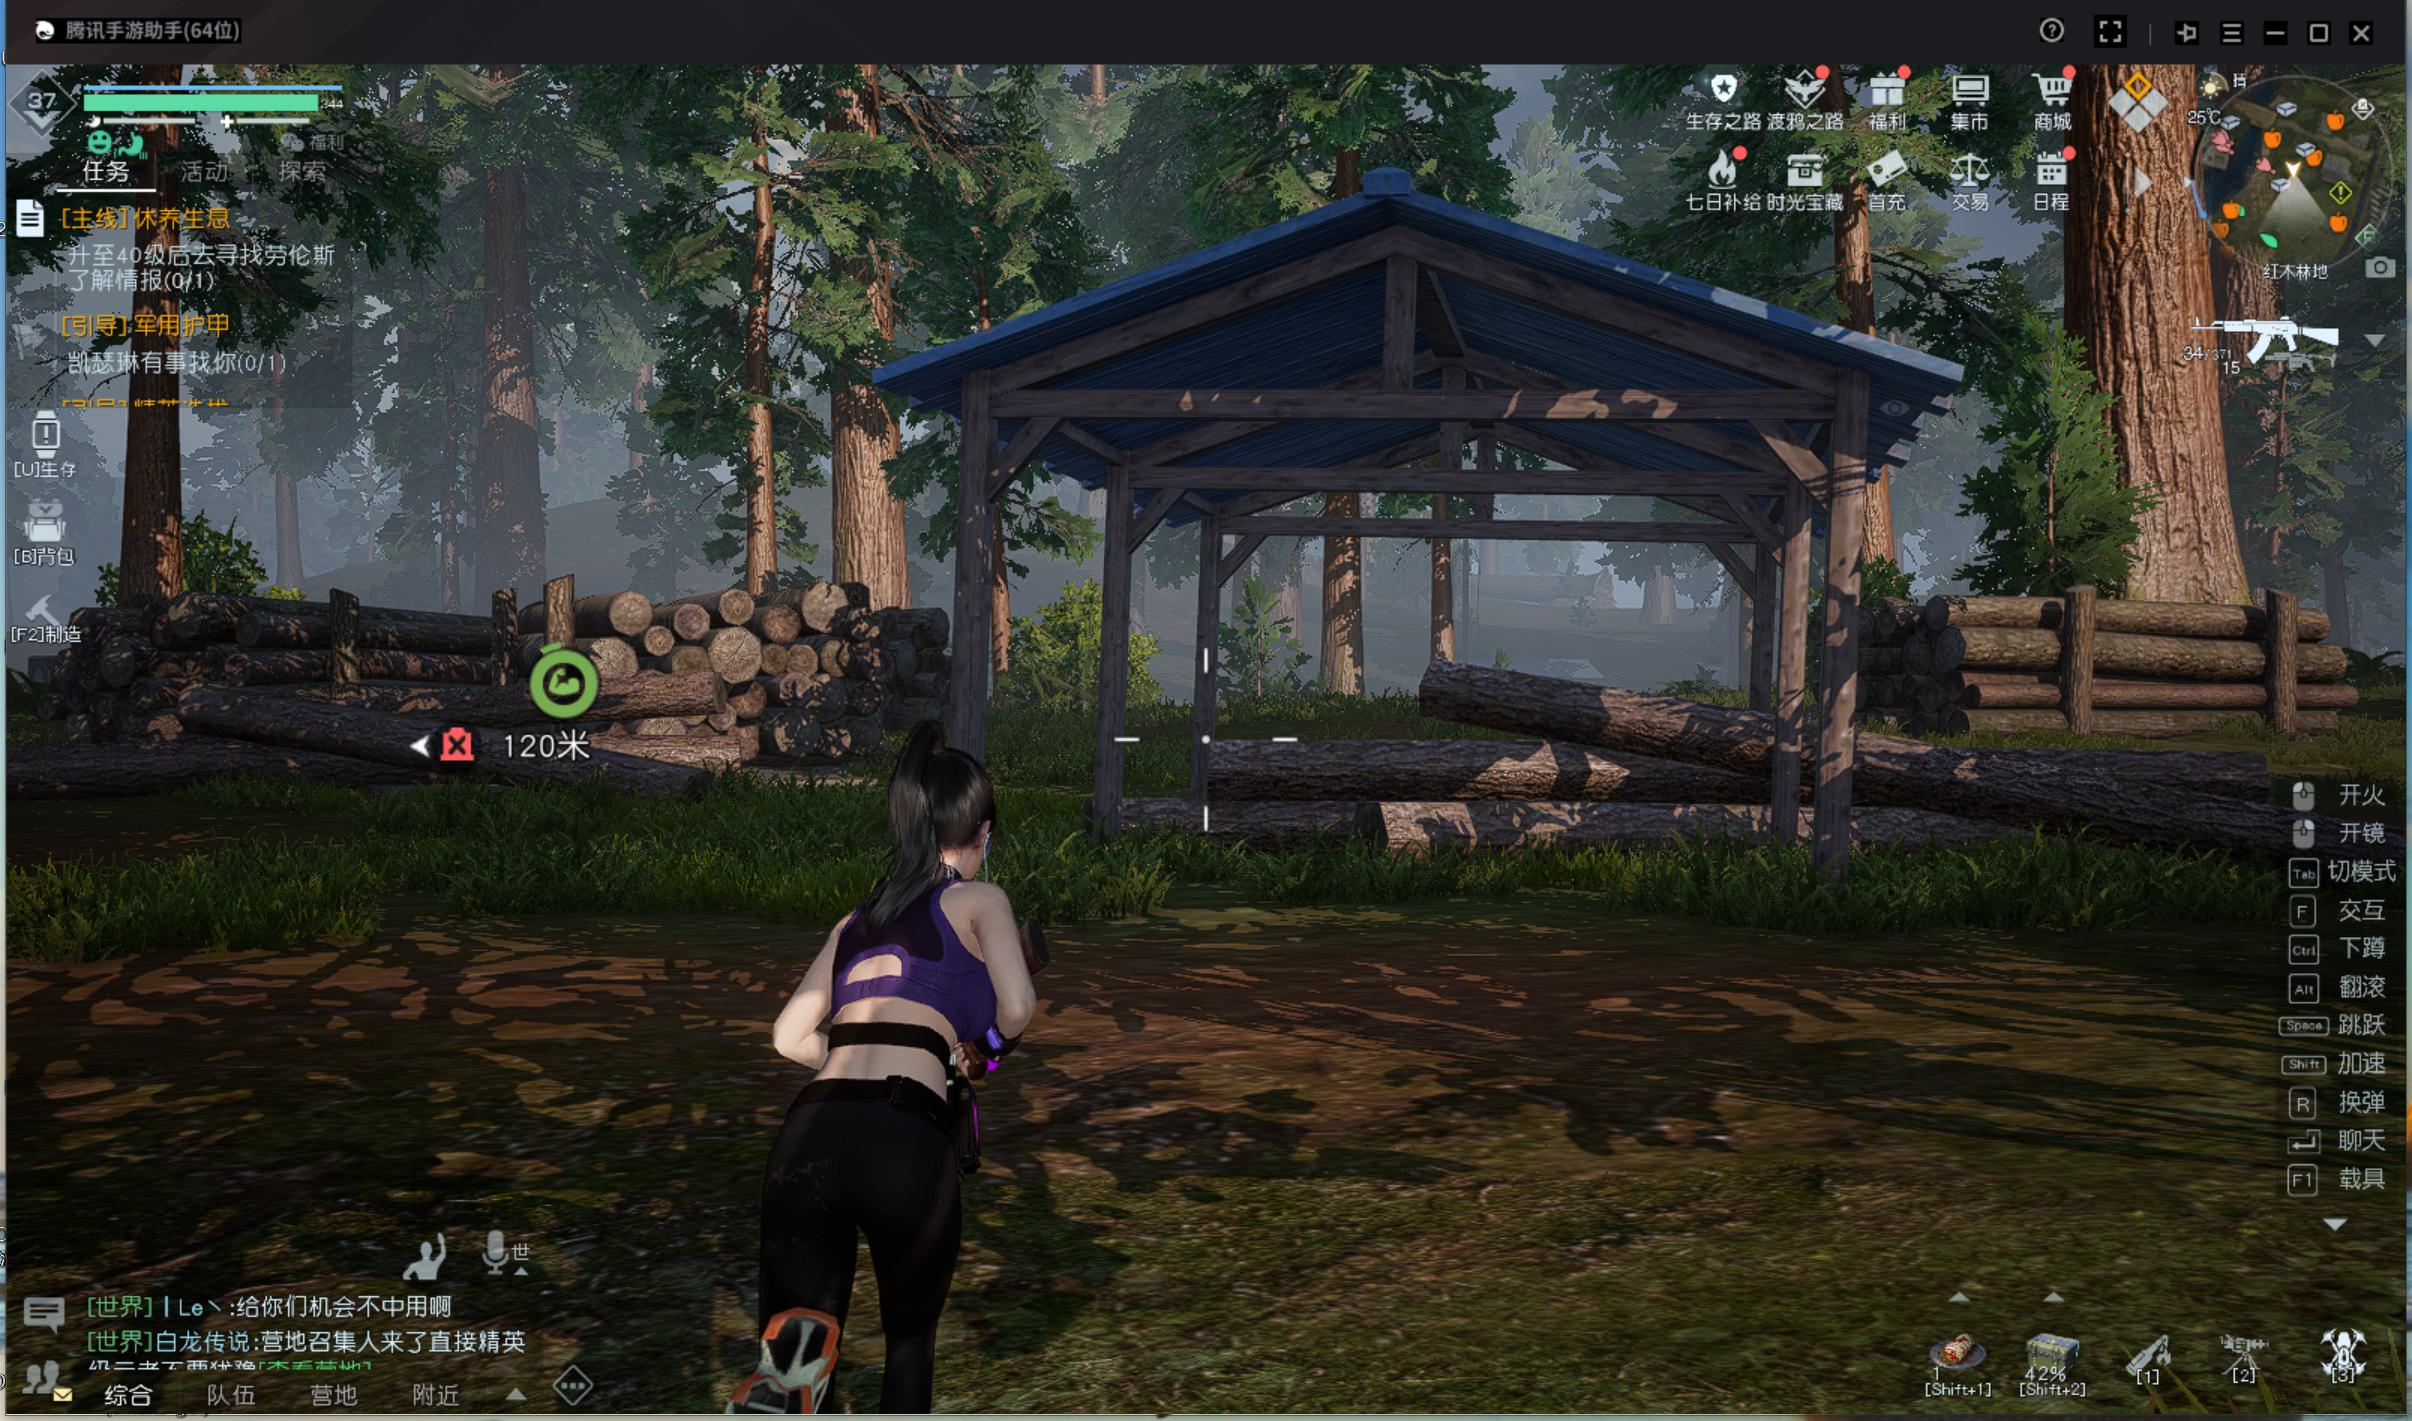tree: (2052, 220, 2245, 602), (463, 245, 551, 661), (112, 242, 195, 646), (726, 286, 780, 668)
